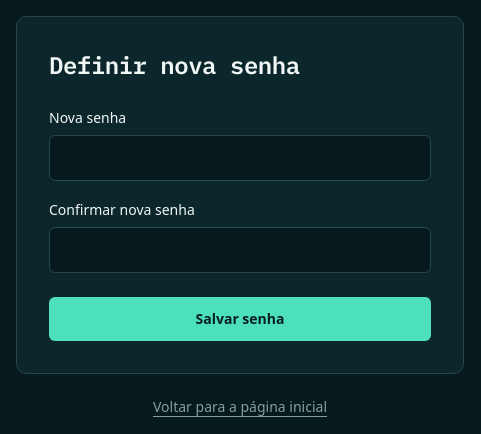
Test: ResetPassword › updates the password through the GoTrue recovery session and clears the flag
Type "nova-senha-123" into the password field labelled "Nova senha" at point(240, 158), box left=49, top=135, right=431, bottom=181
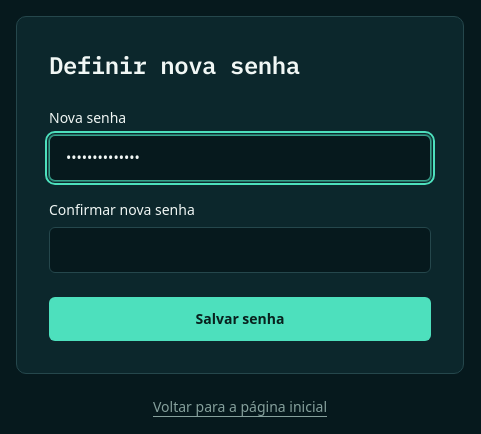
Type "nova-senha-123" into the password field labelled "Confirmar nova senha" at point(240, 250), box left=49, top=227, right=431, bottom=273
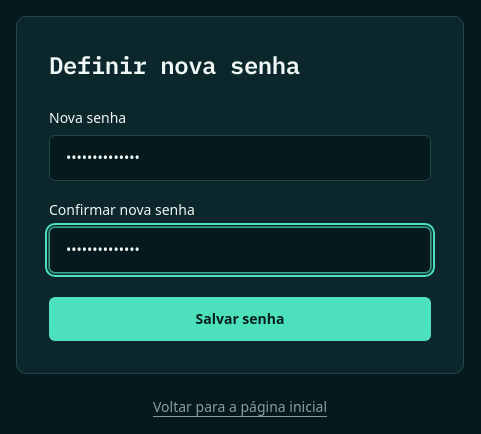
Click the button "Salvar senha" at point(240, 319), box left=49, top=297, right=431, bottom=341
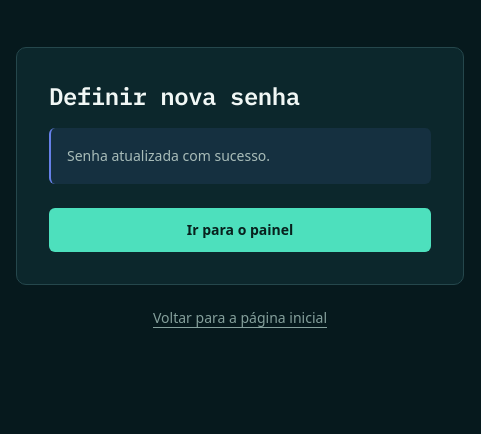
Expected: the text "Senha atualizada com sucesso." is shown, left=49, top=128, right=431, bottom=184
